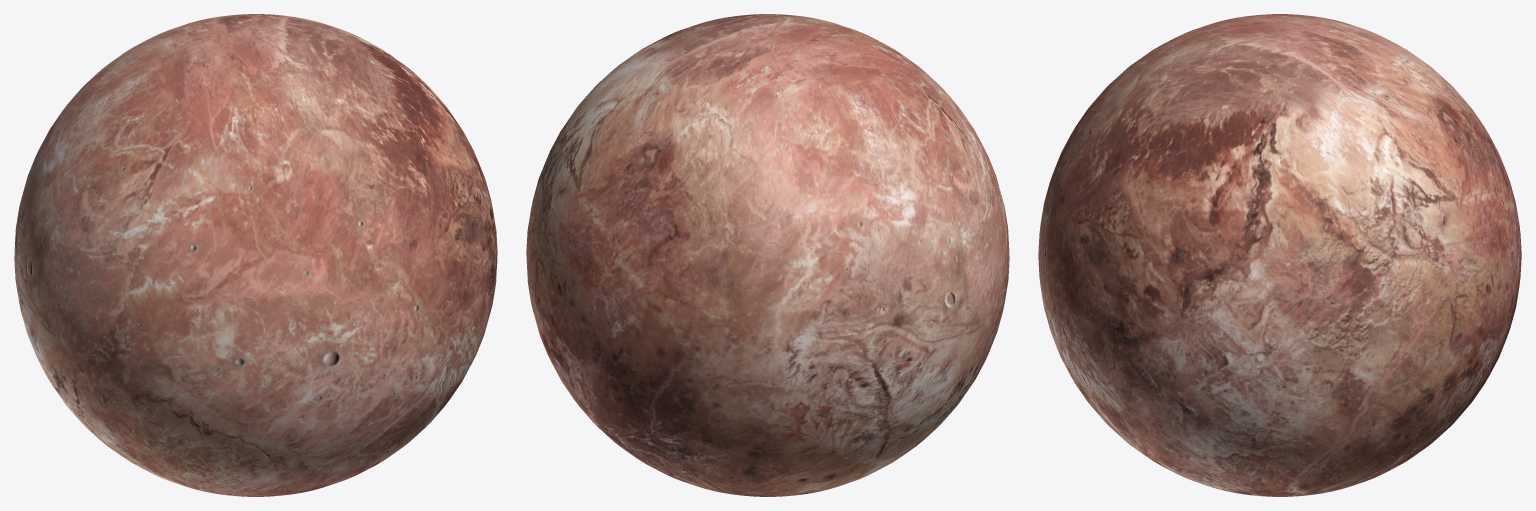
File: pluto.obj
3 renders of one model, left to right at view 1: azimuth 30°, elevation 25°; view 2: azimuth 150°, elevation 25°; view 3: azimuth 270°, elevation 25°, orthographic.
Visible parts, largest first — view 1: Sphere002; view 2: Sphere002; view 3: Sphere002.
Boxes of the visible parts, left/top/right/bottom form: Sphere002: left=14, top=14, right=497, bottom=496; Sphere002: left=526, top=14, right=1009, bottom=496; Sphere002: left=1038, top=14, right=1521, bottom=496.
Bounding box in the file's own units: 702 × 702 × 702.
2 materials, 2 textured.
